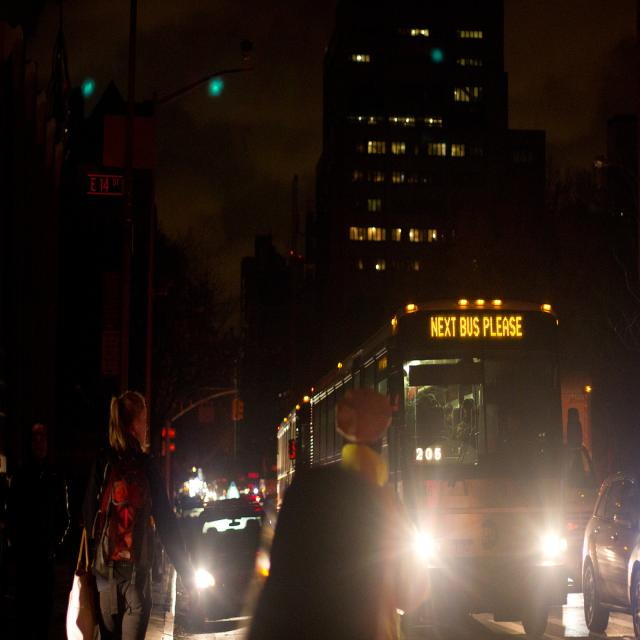Bus: (262, 296, 610, 598)
People: (282, 362, 431, 640), (69, 383, 190, 626), (4, 391, 66, 618)
car: (180, 485, 279, 631), (578, 429, 640, 640), (556, 408, 610, 590)
